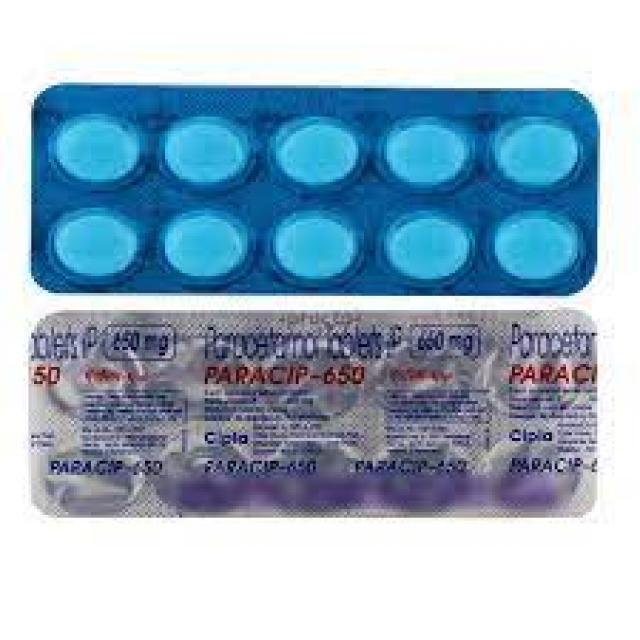authentic: (19, 65, 610, 308), (18, 296, 610, 534)
